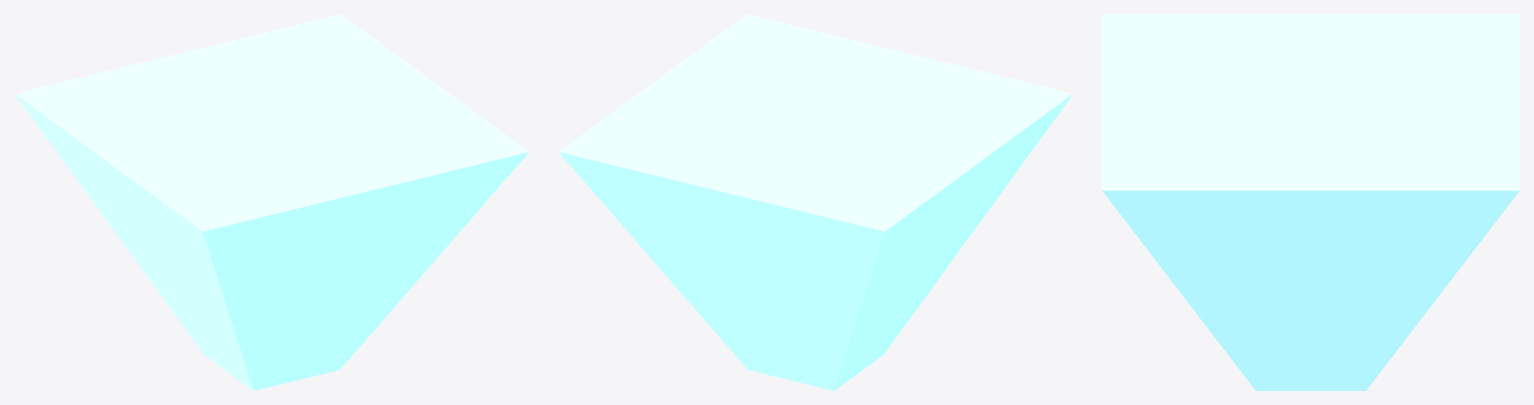
Rendered from cono.fbx.
The picture shows the model from 3 angles, left to right: view 1: azimuth 30°, elevation 25°; view 2: azimuth 150°, elevation 25°; view 3: azimuth 270°, elevation 25°; orthographic projection. The views are drawn at different scales.
Parts seen in each view (by area): view 1: Cube; view 2: Cube; view 3: Cube.
Boxes of the visible parts, x1,y1,x2,y2 form: Cube: (15, 14, 528, 390); Cube: (559, 14, 1072, 390); Cube: (1102, 14, 1519, 390).
Size of the model in its own units: 180 by 126 by 180.
